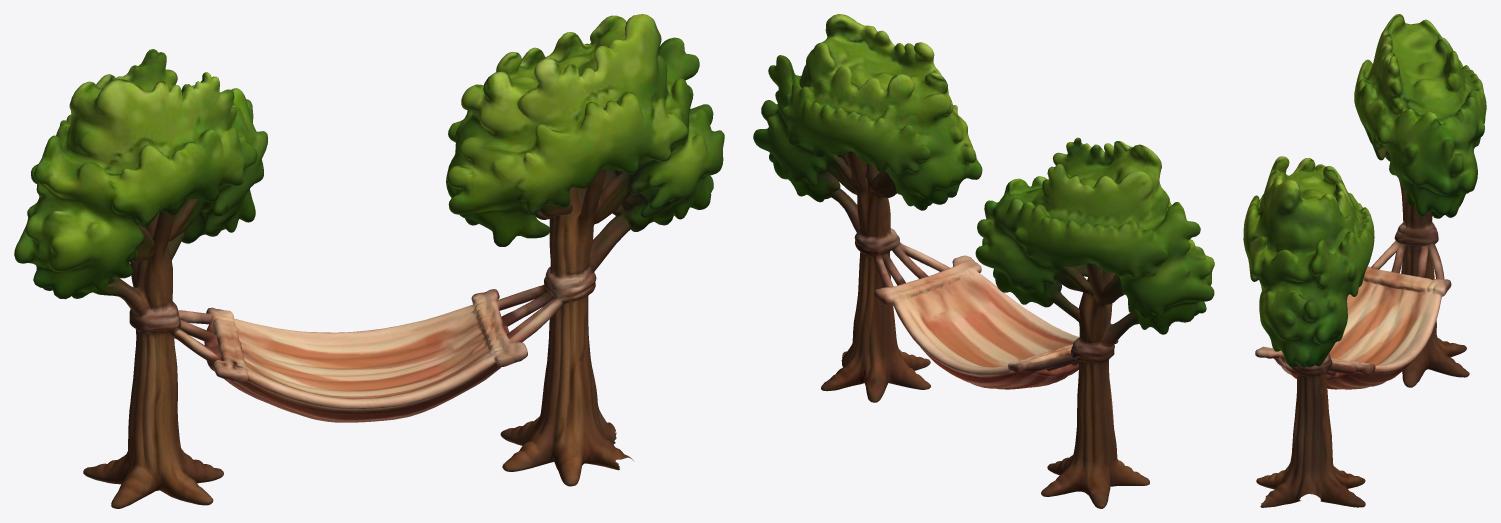
The model's file is cay-vong.glb.
3 renders of one model, left to right at view 1: azimuth 30°, elevation 25°; view 2: azimuth 150°, elevation 25°; view 3: azimuth 270°, elevation 25°, orthographic. The views are drawn at different scales.
Size of the model in its own units: 0.2922 by 0.1912 by 0.1251.
1 material, 1 textured.
